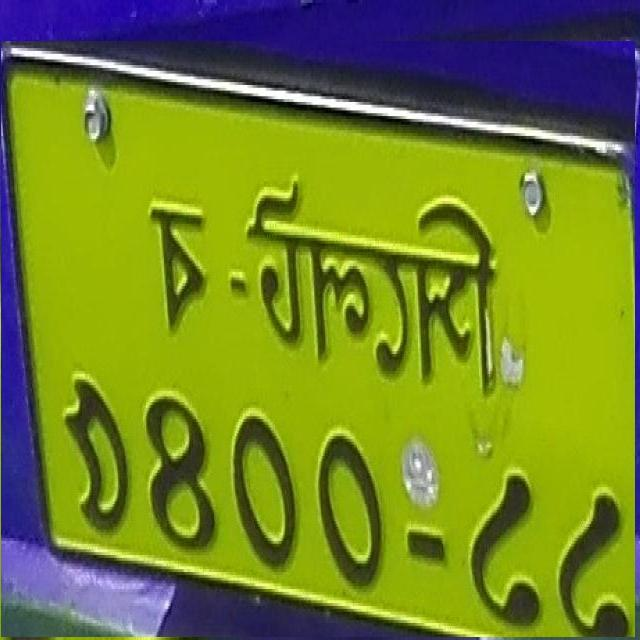numberplate: (1, 41, 635, 637)
